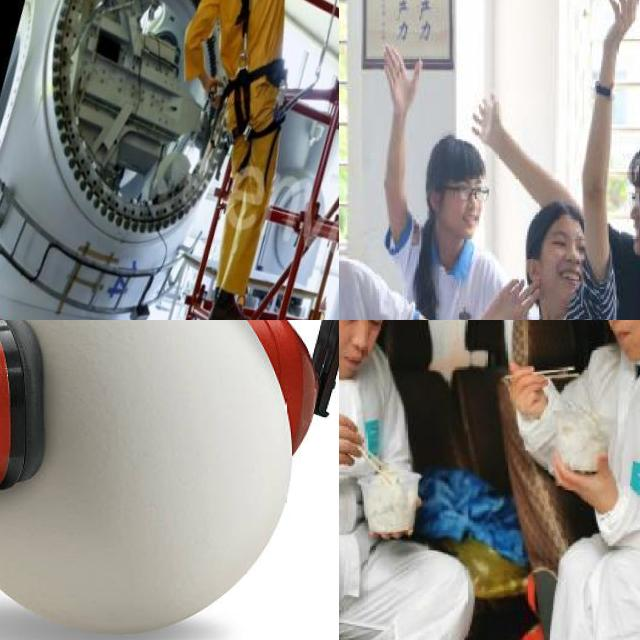Ear-protection: (0, 320, 339, 494)
Harness: (226, 0, 286, 140)
face_nomask: (548, 230, 586, 294), (339, 320, 385, 372), (444, 182, 487, 236), (624, 181, 640, 265)
glasses: (450, 179, 491, 205)
hand_noglove: (550, 451, 619, 515), (383, 41, 424, 115), (484, 276, 541, 320), (602, 0, 640, 64), (509, 361, 550, 420), (367, 495, 419, 541), (470, 92, 506, 149), (339, 410, 365, 479)
head_nohelmet: (527, 196, 595, 238), (433, 136, 486, 188)
person: (504, 320, 640, 640), (350, 47, 508, 320), (339, 320, 473, 640), (453, 196, 640, 320), (339, 156, 445, 320)
